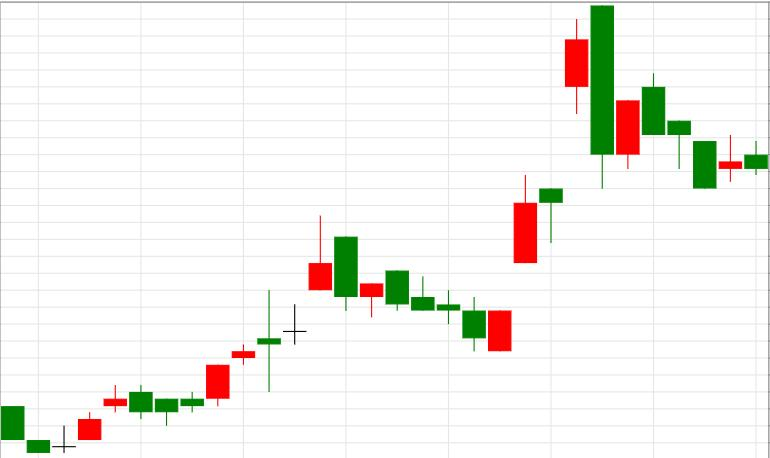bearish_engulfing_fall: (488, 6, 613, 350)
shooting_star_fall: (206, 215, 331, 406)
